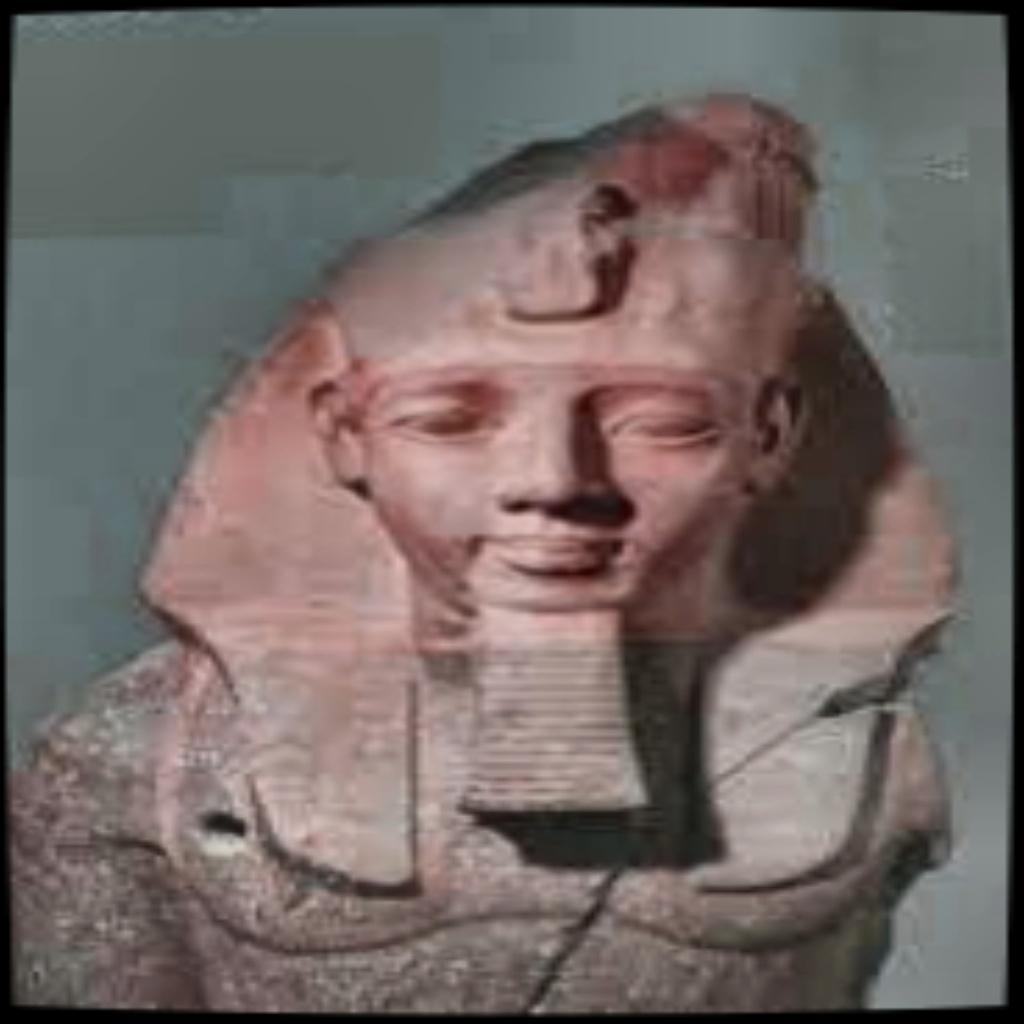bust of Ramesses II: (6, 86, 968, 1013)
